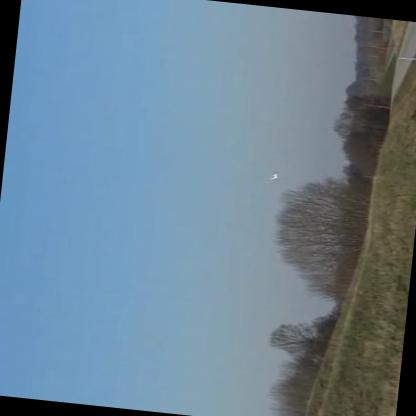plane: (264, 168, 283, 182)
